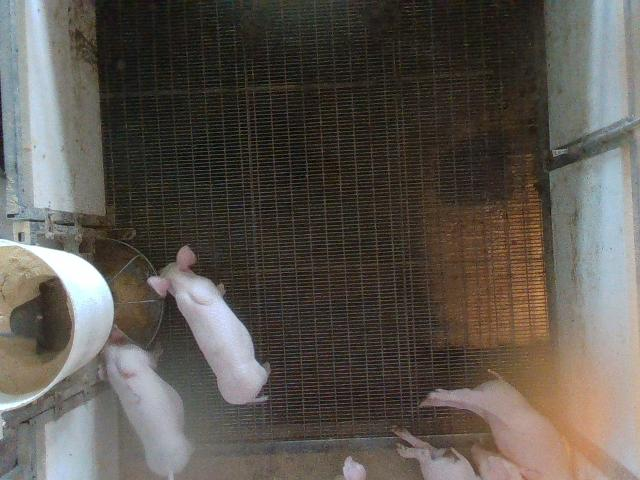pig-5: (102, 326, 192, 478)
